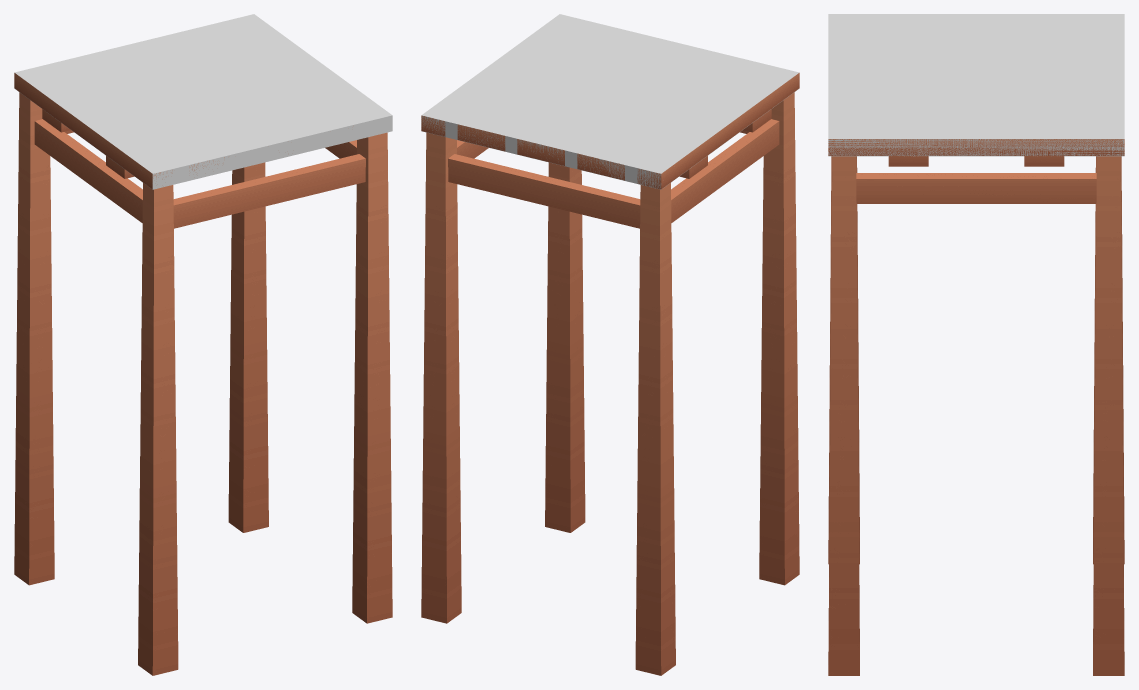
File: platform.glb
3 views of the same model, side by side, from view 1: azimuth 30°, elevation 25°; view 2: azimuth 150°, elevation 25°; view 3: azimuth 270°, elevation 25° (orthographic). The views are drawn at different scales.
Parts seen in each view (by area): view 1: COL_BOX_WALK_00, Leg_BL, Leg_BR, Leg_FL, Leg_FR, PlatformTop; view 2: COL_BOX_WALK_00, Leg_FL, Leg_FR, Leg_BL, PlatformTop, Leg_BR; view 3: COL_BOX_WALK_00, Leg_BR, Leg_FR, PlatformTop, Leg_BL, Leg_FL.
Part boxes in pixels (x1=…): COL_BOX_WALK_00: x1=14, y1=14, x2=392, y2=189; Leg_BL: x1=138, y1=183, x2=178, y2=675; Leg_BR: x1=352, y1=132, x2=392, y2=623; Leg_FL: x1=14, y1=92, x2=54, y2=585; Leg_FR: x1=228, y1=162, x2=268, y2=532; PlatformTop: x1=14, y1=73, x2=365, y2=228; COL_BOX_WALK_00: x1=421, y1=14, x2=799, y2=189; Leg_FL: x1=635, y1=183, x2=675, y2=675; Leg_FR: x1=421, y1=132, x2=461, y2=623; Leg_BL: x1=759, y1=92, x2=799, y2=585; PlatformTop: x1=421, y1=73, x2=799, y2=228; Leg_BR: x1=545, y1=162, x2=585, y2=532; COL_BOX_WALK_00: x1=828, y1=14, x2=1124, y2=156; Leg_BR: x1=828, y1=156, x2=859, y2=675; Leg_FR: x1=1093, y1=156, x2=1124, y2=675; PlatformTop: x1=828, y1=139, x2=1124, y2=203; Leg_BL: x1=828, y1=156, x2=859, y2=564; Leg_FL: x1=1093, y1=156, x2=1124, y2=564.
Bounding box in the file's own units: 2 × 4 × 2.
Materials: 1 (1 with a texture image).
